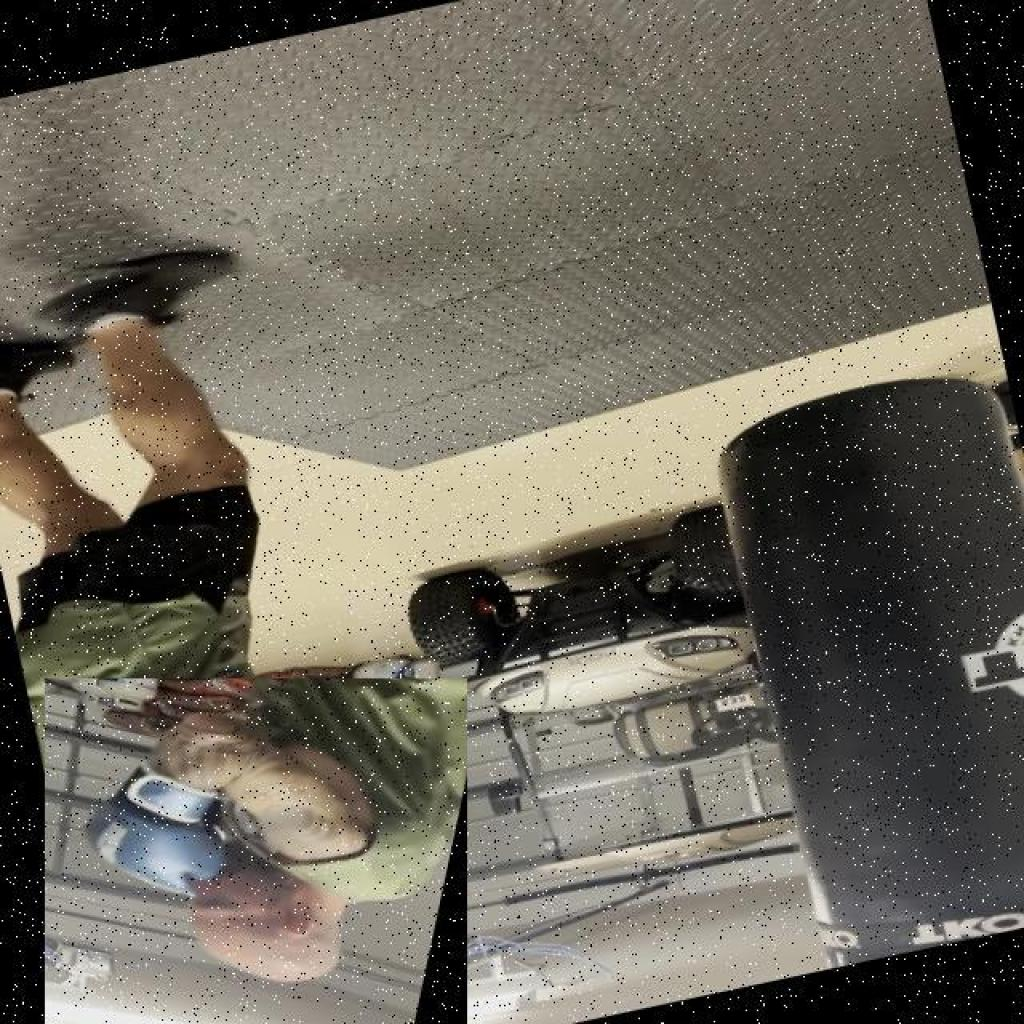bag: (693, 357, 1024, 971)
no punch: (45, 678, 466, 1024)
